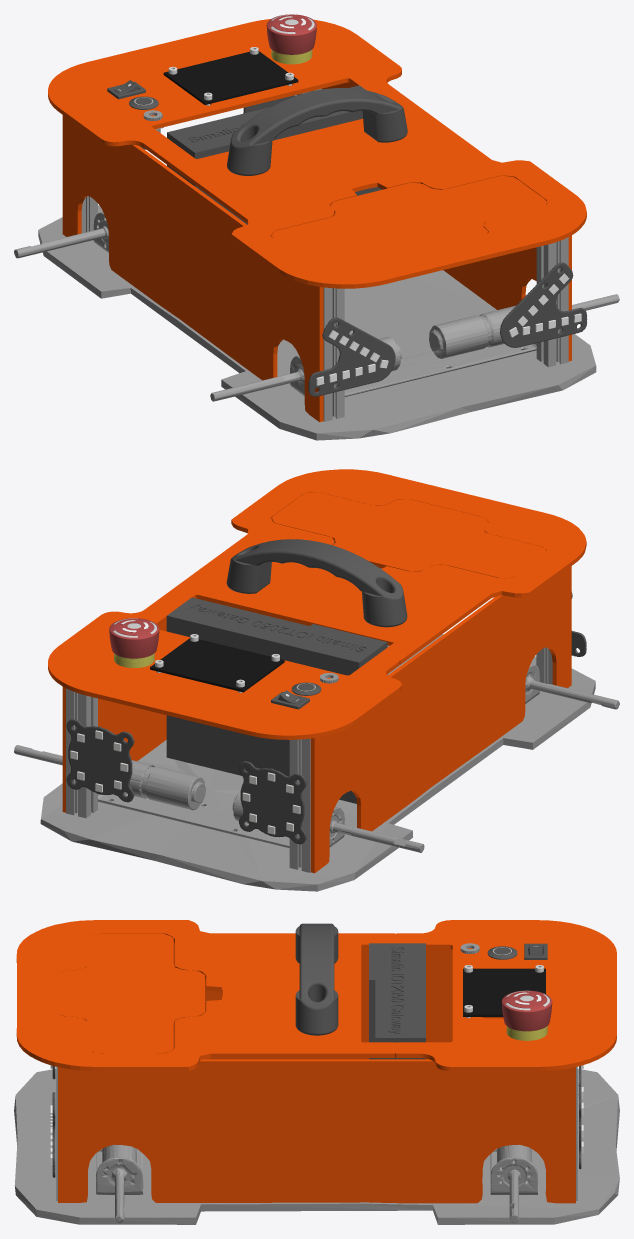
Rendered from eduard-orange-chassis.dae.
The picture shows the model from 3 angles, top to bottom: view 1: azimuth 30°, elevation 25°; view 2: azimuth 150°, elevation 25°; view 3: azimuth 270°, elevation 25°; orthographic projection.
Parts seen in each view (by area): view 1: Körper1.064, Körper1.004, Körper1.025, Körper1.063, Körper1.056, Körper1.005, Körper1.062, Körper1, Körper1.002, Körper1.053, Körper1.050, Körper1.084 (+4 smaller); view 2: Körper1.004, Körper1.064, Körper1.025, Körper1.063, Körper1.053, Körper1.056, Körper1.027, Körper1.062, Körper1, Körper1.087, Körper1.054, Körper1.002 (+4 smaller); view 3: Körper1.002, Körper1.064, Körper1.025, Körper1.063, Körper1.056, Körper1.053, Körper1.062, Körper1.004, Körper1, Körper1.027, Körper1.005, Körper10.
Boxes of the visible parts, x1=… form: Körper1.064: x1=156, y1=93, x2=586, y2=288; Körper1.004: x1=62, y1=115, x2=323, y2=422; Körper1.025: x1=38, y1=205, x2=596, y2=440; Körper1.063: x1=48, y1=19, x2=401, y2=156; Körper1.056: x1=271, y1=176, x2=546, y2=261; Körper1.005: x1=210, y1=294, x2=619, y2=401; Körper1.062: x1=227, y1=88, x2=407, y2=175; Körper1: x1=163, y1=51, x2=298, y2=104; Körper1.002: x1=322, y1=82, x2=571, y2=361; Körper1.053: x1=167, y1=85, x2=381, y2=224; Körper1.050: x1=500, y1=262, x2=587, y2=347; Körper1.084: x1=308, y1=317, x2=395, y2=396; Körper1.004: x1=310, y1=566, x2=571, y2=873; Körper1.064: x1=156, y1=469, x2=586, y2=664; Körper1.025: x1=40, y1=634, x2=595, y2=891; Körper1.063: x1=48, y1=601, x2=401, y2=739; Körper1.053: x1=166, y1=597, x2=387, y2=803; Körper1.056: x1=272, y1=492, x2=546, y2=578; Körper1.027: x1=14, y1=745, x2=424, y2=852; Körper1.062: x1=226, y1=539, x2=407, y2=627; Körper1: x1=150, y1=638, x2=284, y2=692; Körper1.087: x1=66, y1=719, x2=134, y2=802; Körper1.054: x1=239, y1=761, x2=306, y2=844; Körper1.002: x1=62, y1=620, x2=166, y2=812; Körper1.002: x1=58, y1=1059, x2=575, y2=1203; Körper1.064: x1=16, y1=920, x2=394, y2=1071; Körper1.025: x1=14, y1=1068, x2=619, y2=1224; Körper1.063: x1=395, y1=920, x2=616, y2=1071; Körper1.056: x1=56, y1=933, x2=204, y2=1053; Körper1.053: x1=369, y1=943, x2=425, y2=1059; Körper1.062: x1=295, y1=923, x2=338, y2=1035; Körper1.004: x1=173, y1=942, x2=503, y2=1059; Körper1: x1=463, y1=968, x2=545, y2=1016; Körper1.027: x1=490, y1=1144, x2=538, y2=1223; Körper1.005: x1=96, y1=1144, x2=143, y2=1222; Körper10: x1=501, y1=990, x2=552, y2=1031.
Bounding box in the file's own units: 0.2996 × 0.3837 × 0.1461.
